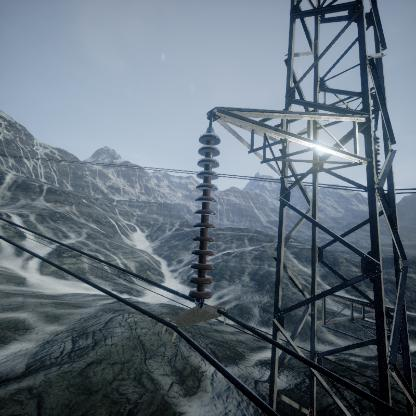insulator: (187, 125, 223, 305)
